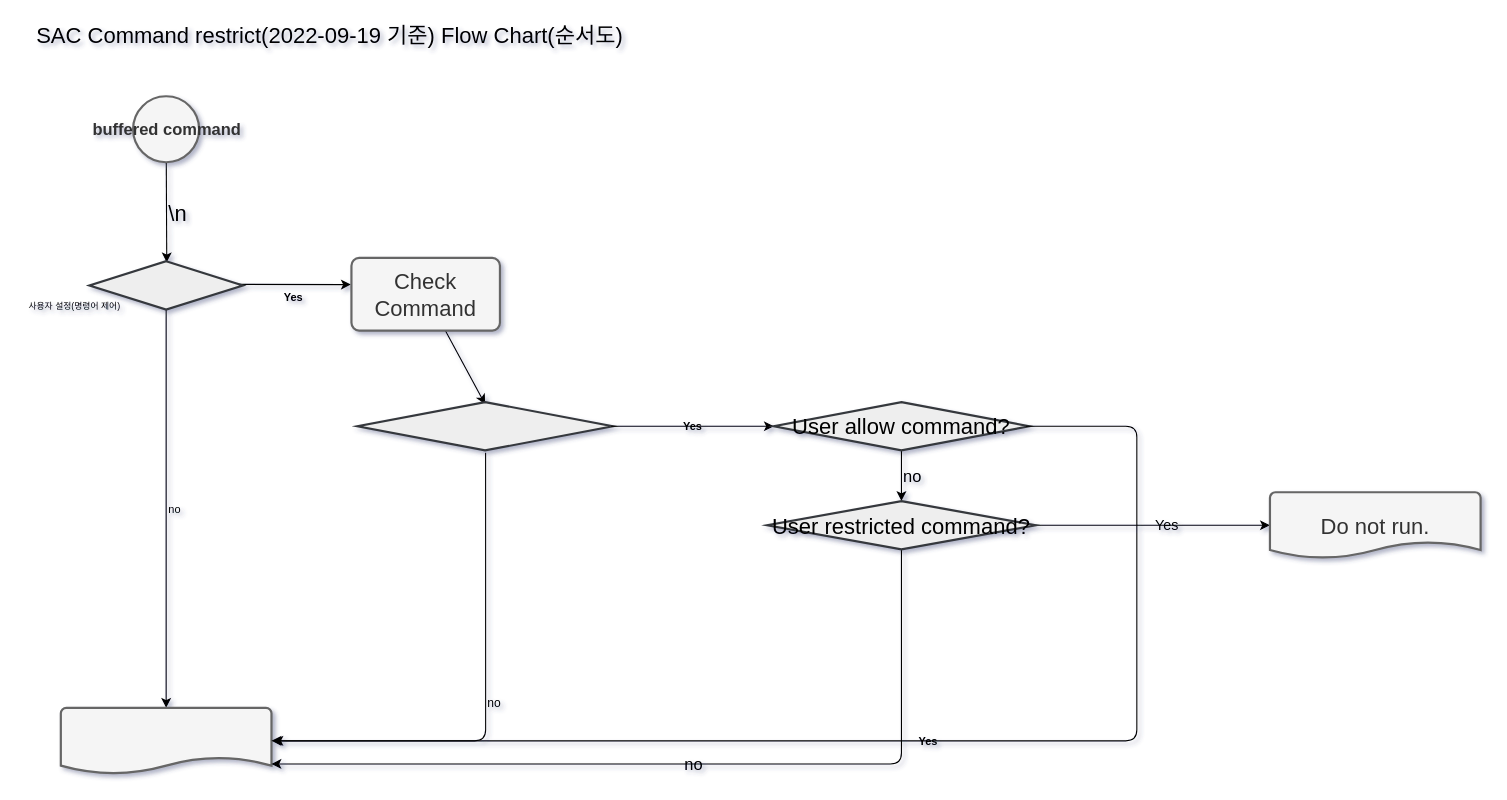
Image size: 1507x800. Some labels were removed from this diagram. The centre of each missing label's shape, as x and y in pixels:
Command_control_use?: (x=165, y=285)
Run command: (x=165, y=740)
Use WhiteList?: (x=484, y=425)
